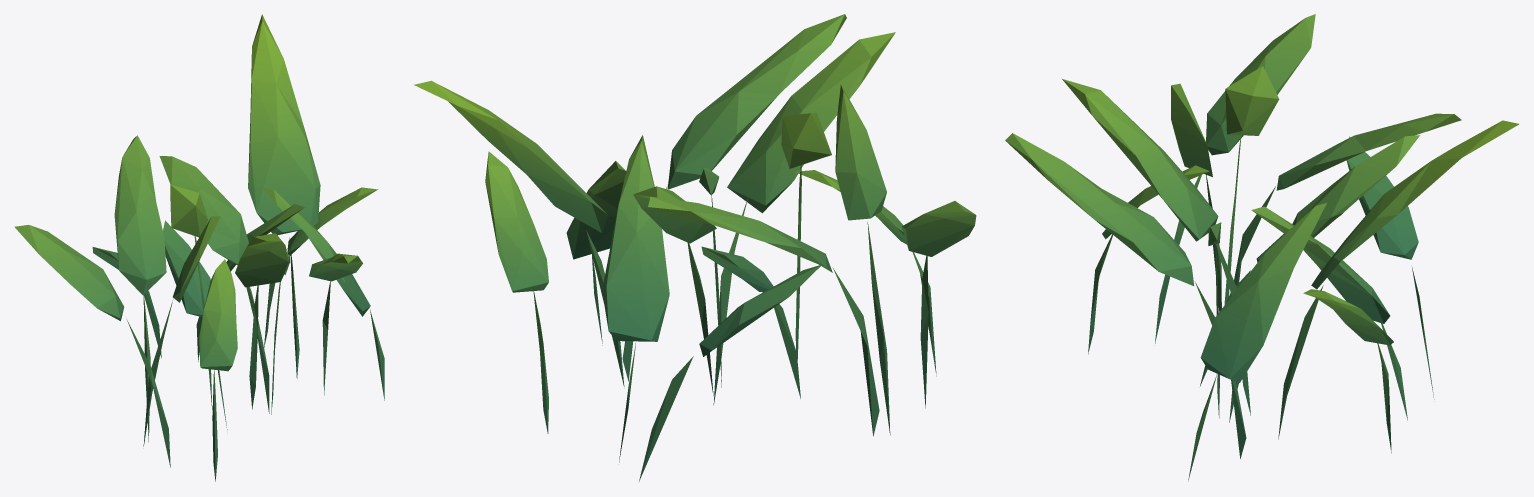
File: ZLP_Grass_C_4.FBX
3 views of the same model, side by side, from view 1: azimuth 30°, elevation 25°; view 2: azimuth 150°, elevation 25°; view 3: azimuth 270°, elevation 25° (orthographic). The views are drawn at different scales.
Visible parts, largest first — view 1: ZLP_Grass_C_4; view 2: ZLP_Grass_C_4; view 3: ZLP_Grass_C_4.
Part boxes in pixels (x1,y1,x2,y2): ZLP_Grass_C_4: (14, 14, 384, 481); ZLP_Grass_C_4: (414, 14, 976, 481); ZLP_Grass_C_4: (1005, 14, 1519, 481).
Size of the model in its own units: 205 by 159 by 202.
